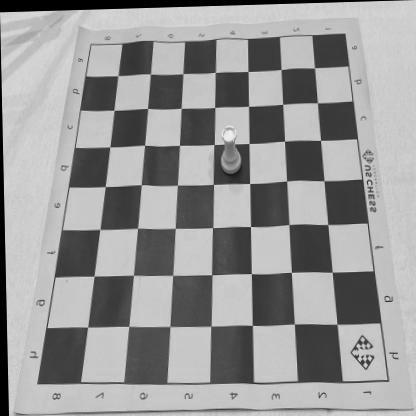white-rook: (219, 124, 242, 174)
